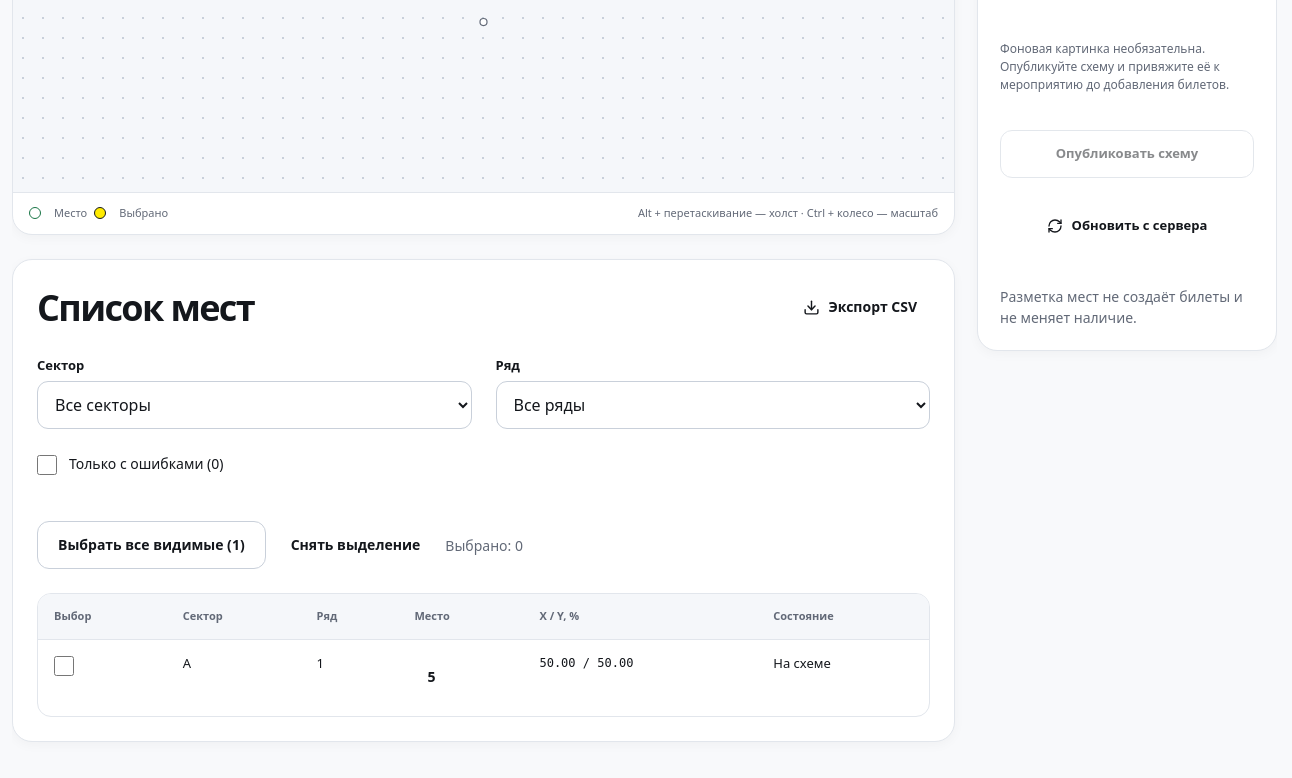
Test case: versioned seat workspace › makes a published plan read-only while preserving inspection and cloning
(page scrolled)
Click the checkbox named "Выбрать A, ряд 1, место 5" at [64, 666], box [54,656,74,676]
(page scrolled)
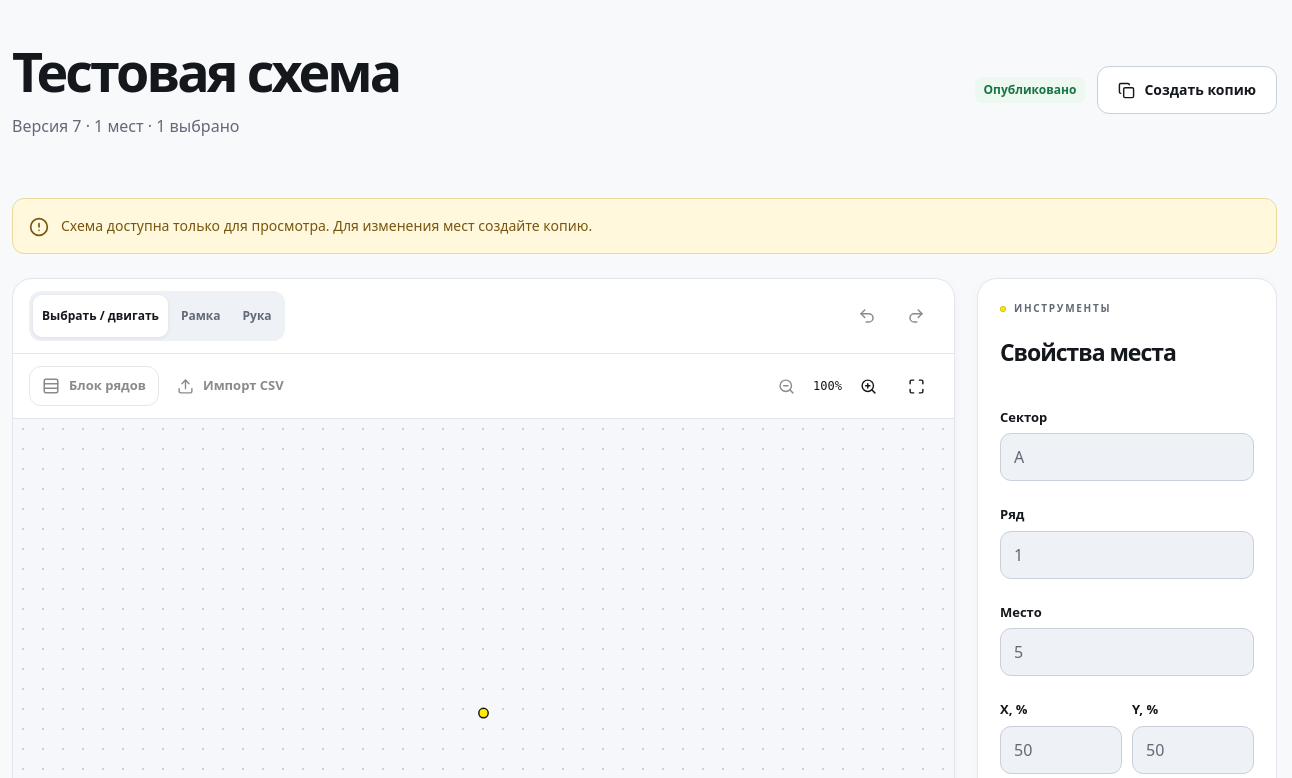
Expected: the button "Создать копию" is enabled, [1097,66,1277,114]
Expected: the field labelled "Место" is disabled, [1000,628,1254,676]
